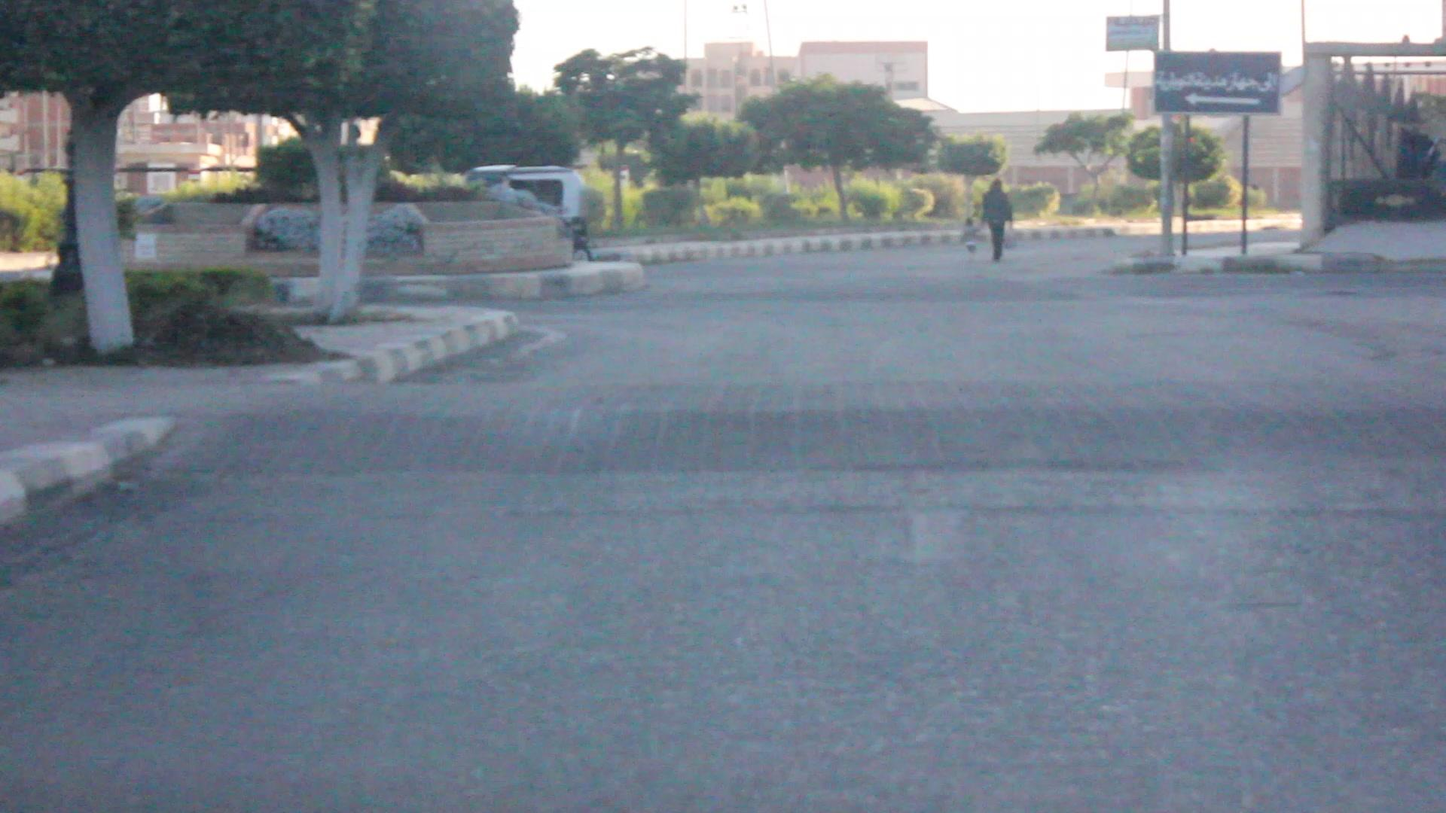Bump: (201, 367, 1446, 516)
